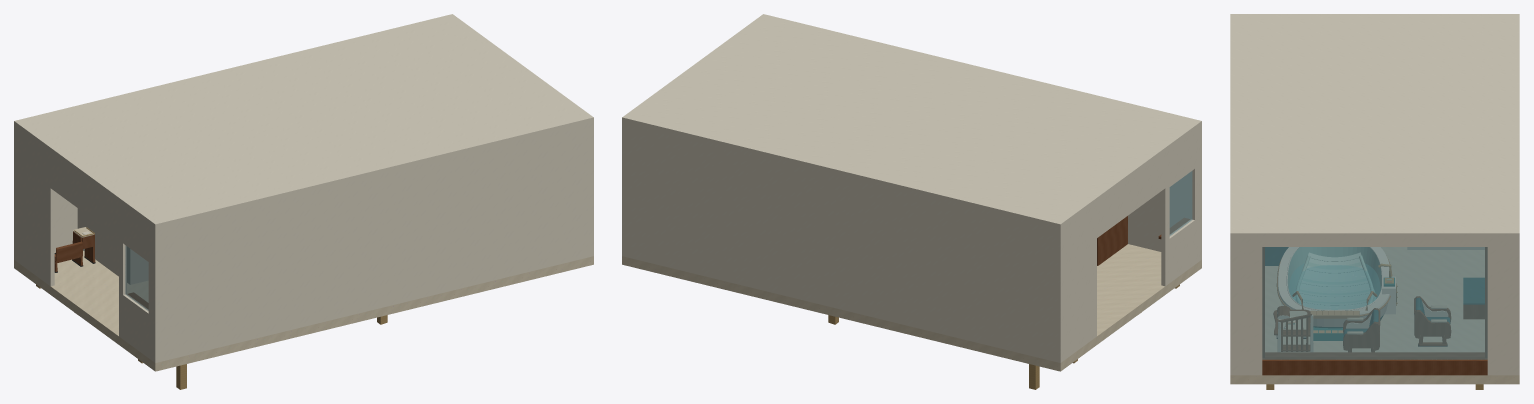
File: QuietGroveBank_403_r001.glb
3 views of the same model, side by side, from view 1: azimuth 30°, elevation 25°; view 2: azimuth 150°, elevation 25°; view 3: azimuth 270°, elevation 25° (orthographic). The views are drawn at different scales.
Visible parts, largest first — view 1: QG403_Ceiling, QG403_NorthSide, QG403_RoomFloor, QG403_EntryShoulderSouth, QG403_EntryHeader, QG403_StreetWindowLower, QG403_WashEntrySide, QG403_SouthSide, QG403_StreetWindowUpper, QG403_ScreenedStreetGlass; view 2: QG403_Ceiling, QG403_SouthSide, QG403_RoomFloor, QG403_EntryShoulderSouth, QG403_NorthSide, QG403_EntryHeader, QG403_StreetWindowLower, QG403_StreetWindowUpper, QG403_ScreenedStreetGlass, QG403_EntryPrivacyDogleg; view 3: QG403_Ceiling, QGB403_PrivateCourtGlass, QG403_RoomFloor, QGB403_CourtNorthPier, QGB403_CourtSouthPier, QGB403_CourtSill, QG403_QG403_ReservedRestSupport_01__Contoured broad immersed, QG403_QG403_ReservedRestSupport_01__Hollow continuous basin , QGB403_CourtHeader, QGB403_DeepReveal_0.34, QG403_NorthSide, QG403_QG403_DayReadingChair__DAY_CHAIR_R_swept_walnut_cheek (+9 smaller).
Part boxes in pixels (box(x1,y1,x2,y2)): QG403_Ceiling: box(14, 14, 593, 229); QG403_NorthSide: box(153, 123, 593, 362); QG403_RoomFloor: box(14, 250, 593, 371); QG403_EntryShoulderSouth: box(16, 128, 54, 286); QG403_EntryHeader: box(49, 152, 119, 238); QG403_StreetWindowLower: box(119, 292, 152, 360); QG403_WashEntrySide: box(77, 208, 133, 284); QG403_SouthSide: box(14, 127, 77, 260); QG403_StreetWindowUpper: box(119, 204, 152, 264); QG403_ScreenedStreetGlass: box(125, 245, 148, 310); QG403_Ceiling: box(622, 14, 1201, 229); QG403_SouthSide: box(622, 123, 1062, 362); QG403_RoomFloor: box(622, 244, 1201, 371); QG403_EntryShoulderSouth: box(1063, 204, 1096, 360); QG403_NorthSide: box(1128, 127, 1201, 260); QG403_EntryHeader: box(1096, 152, 1166, 237); QG403_StreetWindowLower: box(1161, 217, 1199, 286); QG403_StreetWindowUpper: box(1163, 128, 1199, 190); QG403_ScreenedStreetGlass: box(1169, 171, 1192, 235); QG403_EntryPrivacyDogleg: box(1097, 216, 1127, 265); QG403_Ceiling: box(1230, 14, 1519, 238); QGB403_PrivateCourtGlass: box(1262, 247, 1487, 359); QG403_RoomFloor: box(1230, 247, 1519, 384); QGB403_CourtNorthPier: box(1487, 239, 1519, 375); QGB403_CourtSouthPier: box(1230, 239, 1262, 375); QGB403_CourtSill: box(1262, 358, 1487, 375); QG403_QG403_ReservedRestSupport_01__Contoured broad immersed: box(1295, 252, 1373, 309); QG403_QG403_ReservedRestSupport_01__Hollow continuous basin : box(1278, 247, 1389, 327); QGB403_CourtHeader: box(1262, 239, 1487, 246); QGB403_DeepReveal_0.34: box(1265, 352, 1484, 357); QG403_NorthSide: box(1230, 239, 1234, 375); QG403_QG403_DayReadingChair__DAY_CHAIR_R_swept_walnut_cheek: box(1414, 310, 1450, 338).
Size of the model in its own units: 12.9 by 5.31 by 7.2.
67 materials, 49 textured.
